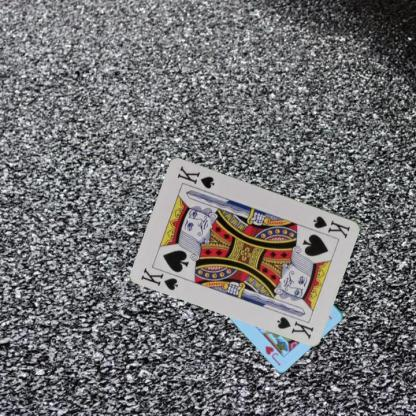Ks: (138, 265, 180, 292), (310, 213, 352, 239)
